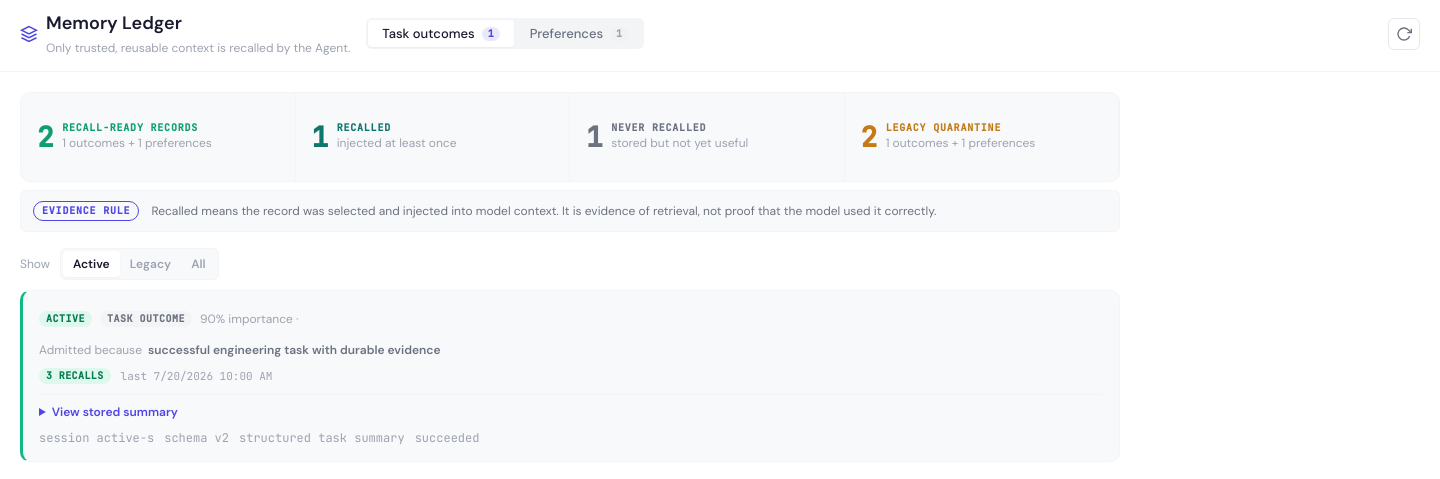
Test: MemoryViewer quality governance › distinguishes stored, recalled, and never-recalled evidence
Expected: the 1st text with class "tab-count" reads "1", [488,26,494,40]
Expected: the 2nd text with class "tab-count" reads "1", [616,26,622,40]
Click the button "Legacy": (150, 264) [120,251,181,277]
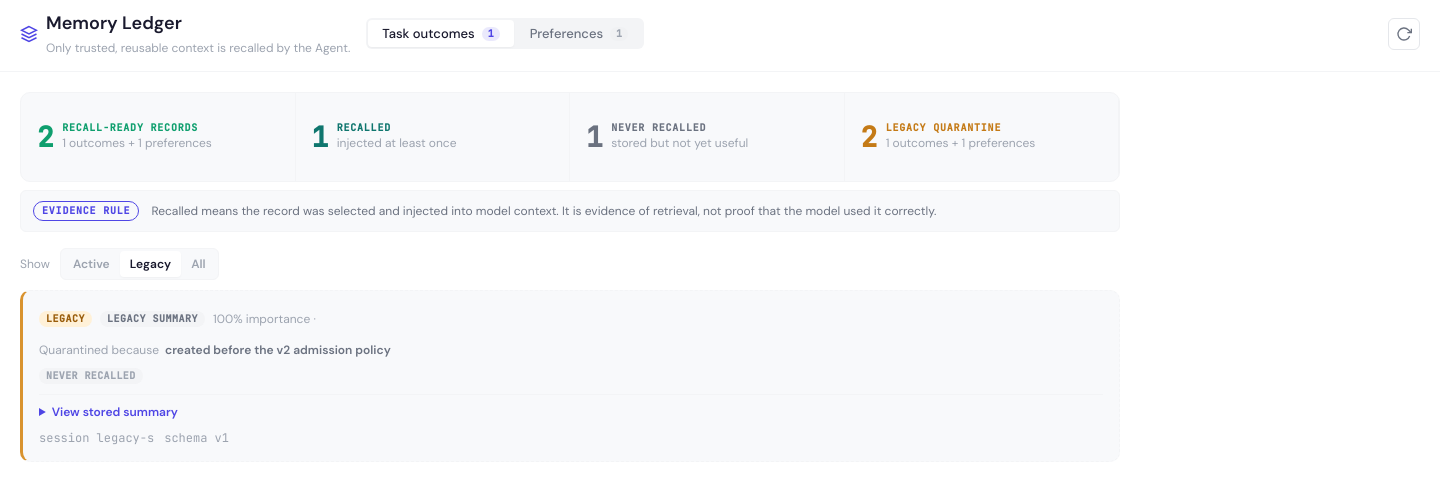
Expected: the text "created before the v2 admission policy" is shown, [165,341,391,359]
